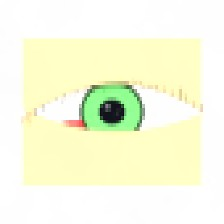hemorrhage_spot: (39, 89, 138, 168)
